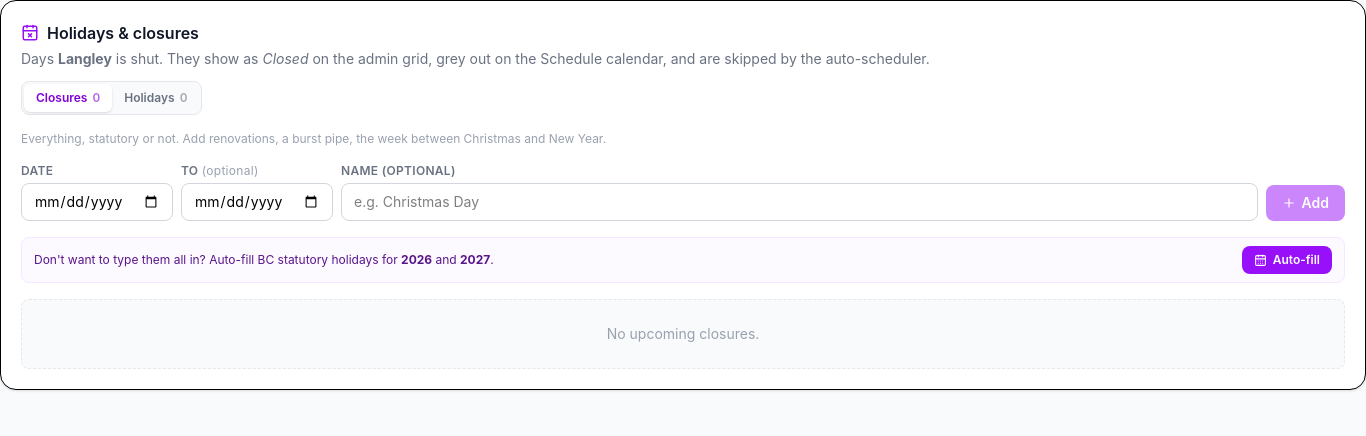
Test case: closing a stretch in one go › refuses a mis-keyed year rather than writing thousands of entries
In the 1st date field: x=97, y=202 [21,183,173,221], type "2099-12-24"
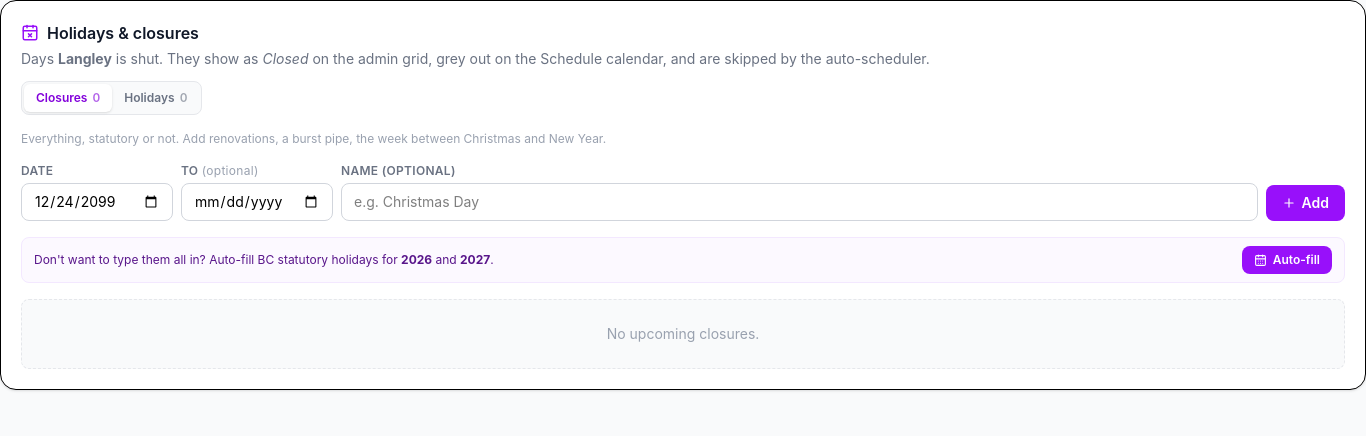
In the date field named "Last day of the closure": x=257, y=202 [181,183,333,221], type "2109-12-24"
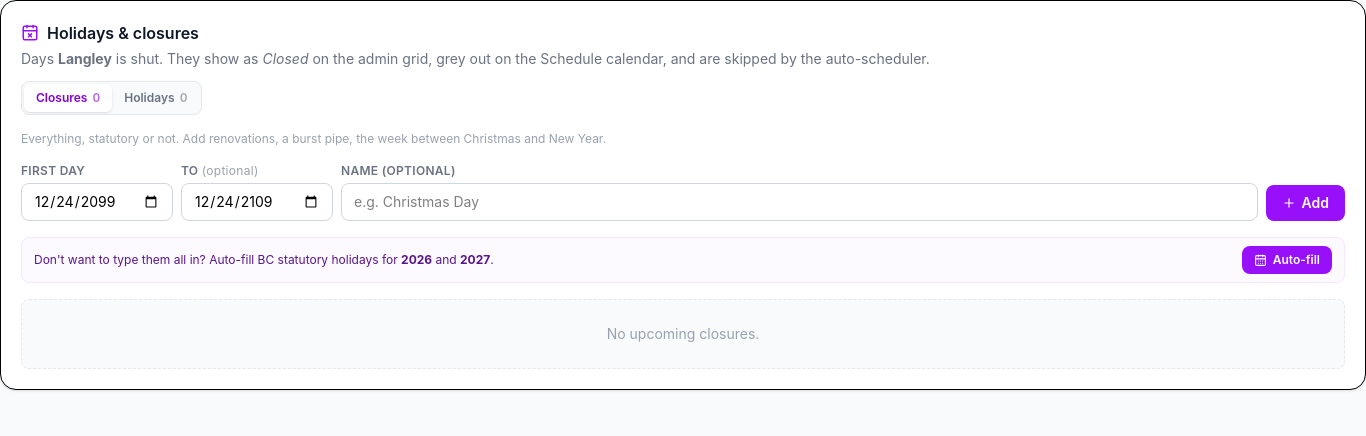
Click the button "Add": x=1305, y=203 [1266,185,1345,221]
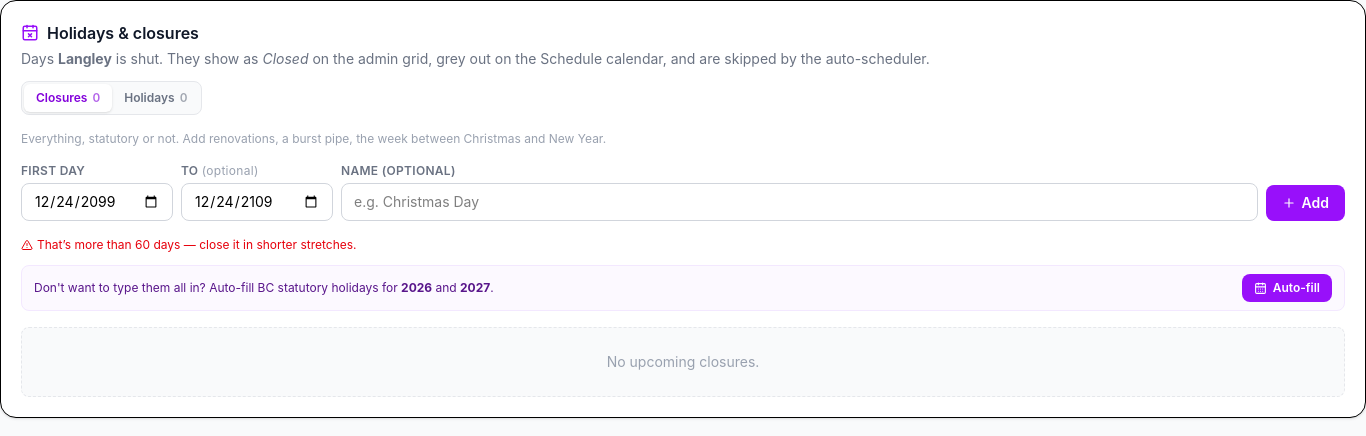
Expected: the text "That’s more than 60 days — close it in shorter stretches." is shown, [21,237,357,252]
